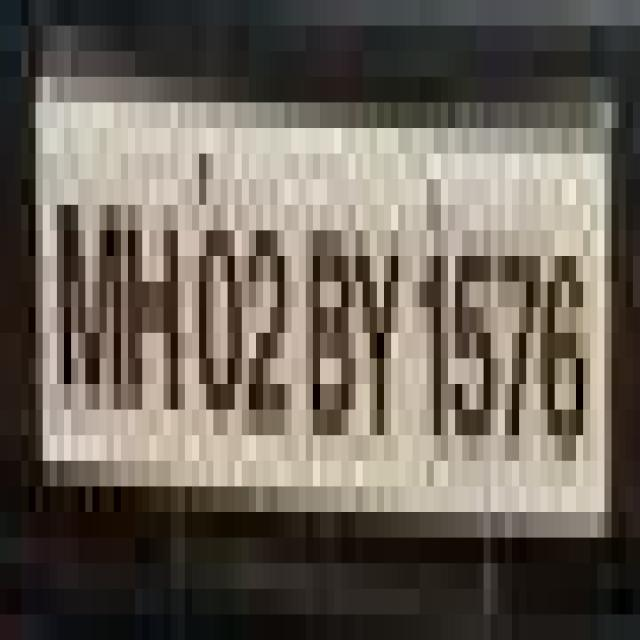plate: (0, 26, 612, 563)
